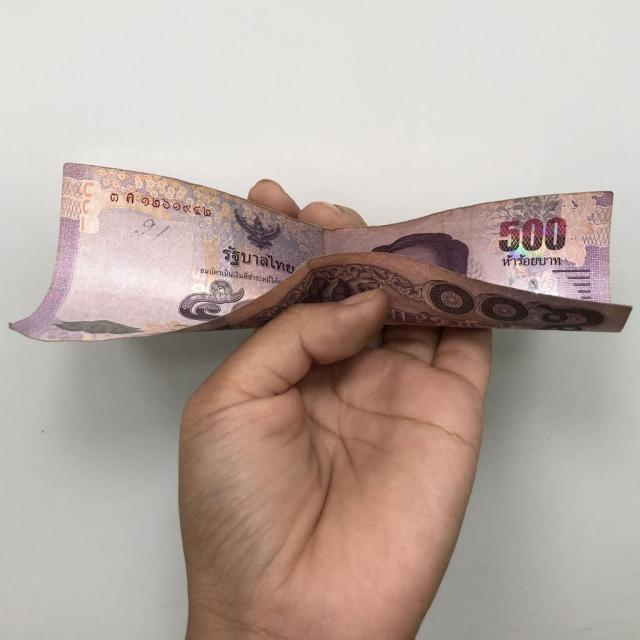THAI500: (9, 162, 629, 342)
